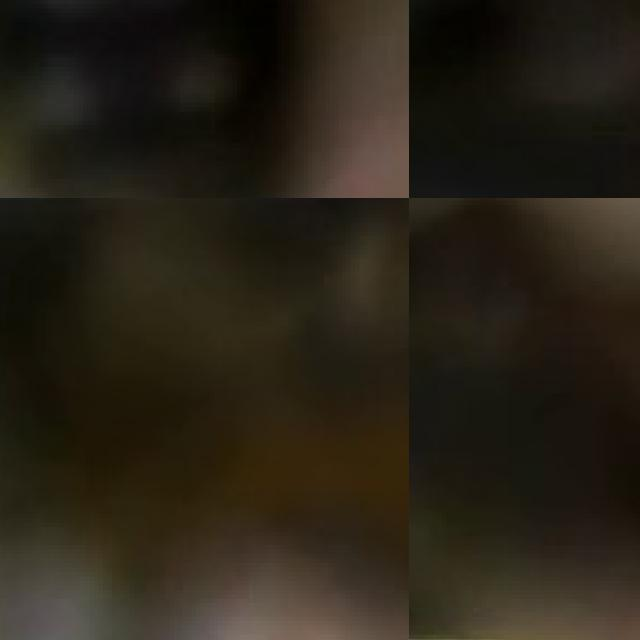fish: (0, 198, 409, 640), (0, 0, 409, 198), (409, 0, 640, 198)
